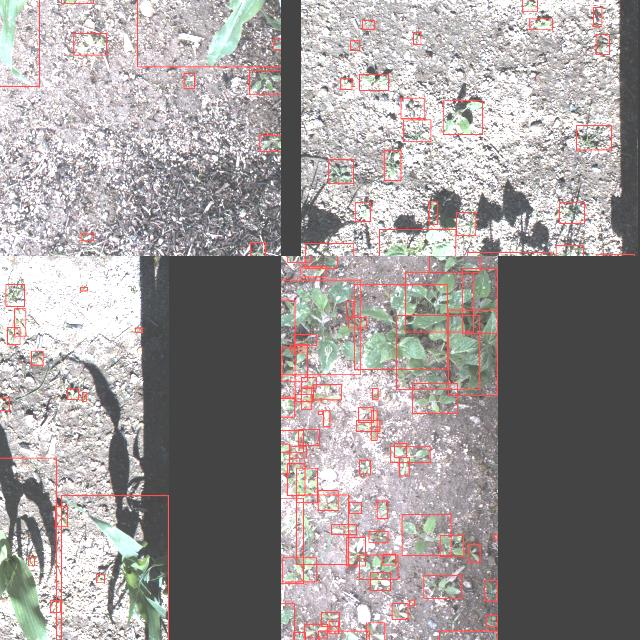crop: (60, 494, 167, 640), (0, 457, 56, 640), (137, 0, 281, 66), (353, 284, 447, 368), (281, 279, 360, 374), (396, 315, 480, 389), (448, 309, 497, 395), (404, 271, 474, 331), (0, 0, 38, 86), (462, 268, 496, 332), (378, 228, 455, 256), (273, 38, 281, 49)
weed: (296, 494, 348, 564), (402, 514, 451, 554), (281, 497, 303, 583), (442, 100, 482, 134), (412, 383, 456, 413), (358, 554, 398, 578), (576, 124, 612, 150), (423, 574, 461, 598), (281, 348, 307, 380), (282, 557, 316, 581), (428, 256, 479, 272), (248, 69, 281, 93), (72, 32, 106, 54), (303, 242, 352, 256), (296, 468, 316, 502), (390, 445, 430, 461), (402, 119, 430, 141), (346, 536, 366, 566), (328, 159, 352, 183), (286, 463, 304, 495), (440, 534, 464, 556), (384, 150, 401, 180), (401, 98, 424, 119), (358, 74, 388, 90), (560, 202, 584, 222), (281, 430, 302, 452), (281, 603, 293, 640), (455, 212, 475, 234), (4, 284, 23, 306), (313, 384, 342, 398), (317, 490, 337, 510), (304, 256, 337, 267), (365, 621, 384, 640), (370, 571, 390, 589), (259, 134, 281, 150), (555, 244, 583, 256), (14, 308, 26, 336), (298, 429, 318, 445), (304, 623, 326, 637), (354, 202, 370, 220), (595, 34, 609, 54), (484, 580, 498, 600), (530, 18, 552, 30), (300, 386, 312, 408), (330, 524, 356, 534), (281, 396, 294, 416), (300, 266, 326, 276), (391, 603, 407, 619), (6, 326, 20, 344), (321, 611, 339, 625), (55, 506, 67, 526), (368, 530, 388, 542), (355, 420, 379, 430), (281, 443, 289, 472), (358, 406, 372, 422), (294, 334, 316, 344), (468, 543, 480, 561), (288, 445, 306, 457), (348, 316, 366, 328), (250, 242, 265, 256), (428, 200, 437, 223), (377, 500, 388, 518), (394, 442, 406, 458), (592, 7, 602, 26), (399, 457, 409, 475), (370, 410, 376, 440), (183, 72, 194, 88), (300, 377, 316, 388), (31, 350, 43, 364), (358, 459, 369, 473), (522, 0, 537, 10), (349, 501, 361, 513), (294, 393, 312, 401), (287, 256, 311, 262), (382, 554, 396, 564), (487, 614, 498, 626), (290, 343, 306, 351), (50, 600, 60, 612), (328, 621, 338, 633), (340, 78, 350, 89), (346, 300, 352, 318), (293, 631, 305, 640), (0, 397, 8, 410), (68, 388, 78, 398), (80, 233, 94, 240), (361, 20, 373, 28), (412, 32, 420, 44), (323, 410, 329, 426), (349, 40, 358, 50), (96, 574, 104, 582), (28, 556, 34, 566), (372, 388, 378, 398), (136, 326, 142, 332), (82, 392, 86, 401), (80, 286, 86, 290), (494, 534, 498, 540), (410, 599, 414, 605), (318, 410, 322, 414)
